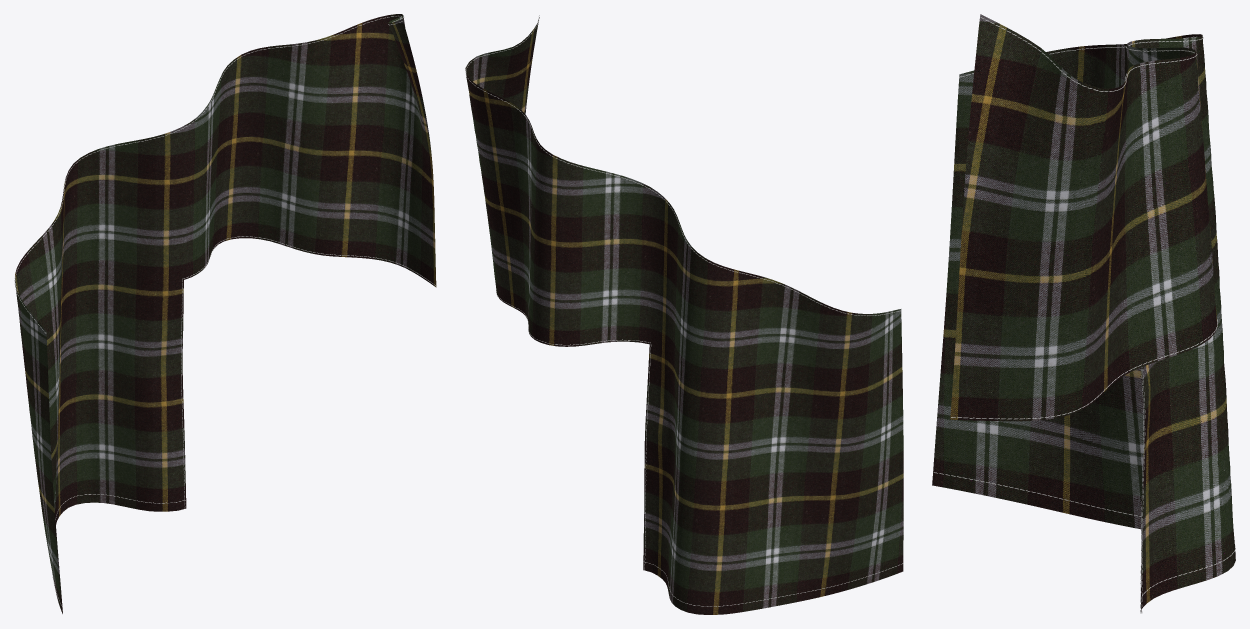
File: sz2houxq.glb
The picture shows the model from 3 angles, left to right: view 1: azimuth 30°, elevation 25°; view 2: azimuth 150°, elevation 25°; view 3: azimuth 270°, elevation 25°; orthographic projection. The views are drawn at different scales.
Visible parts, largest first — view 1: sz2houxq, _2; view 2: sz2houxq, _2; view 3: sz2houxq, _2.
Part boxes in pixels (x1,y1,x2,y2): sz2houxq: (15,14,436,613); _2: (14,15,436,605); sz2houxq: (465,15,903,614); _2: (465,16,902,606); sz2houxq: (932,14,1235,611); _2: (933,17,1235,613).
Size of the model in its own units: 3.75 by 4.45 by 1.69.
Materials: 3 (3 with a texture image).
